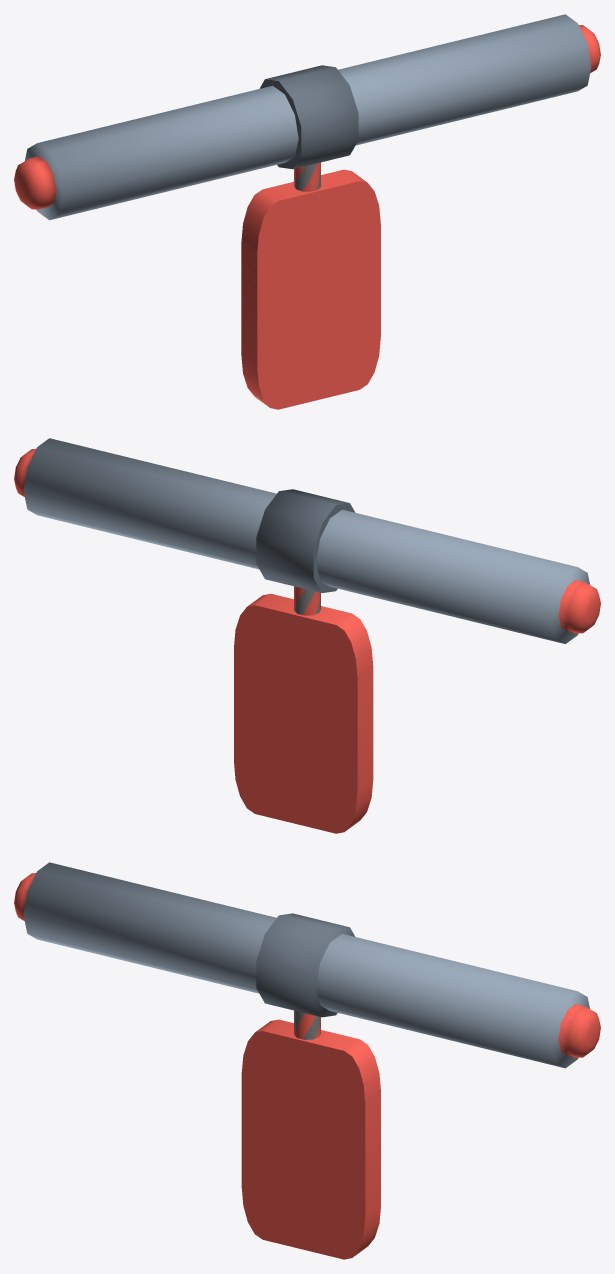
Rendered from MovableWall03.fbx.
The picture shows the model from 3 angles, top to bottom: view 1: azimuth 30°, elevation 25°; view 2: azimuth 150°, elevation 25°; view 3: azimuth 330°, elevation 25°; orthographic projection.
Parts seen in each view (by area): view 1: MoveableWallBase, Wall02; view 2: MoveableWallBase, Wall02; view 3: MoveableWallBase, Wall02.
Part boxes in pixels (x1,y1,x2,y2): MoveableWallBase: (14, 14, 600, 220); Wall02: (241, 65, 380, 409); MoveableWallBase: (14, 438, 600, 643); Wall02: (234, 489, 373, 833); MoveableWallBase: (14, 862, 600, 1068); Wall02: (241, 913, 380, 1259).
Size of the model in its own units: 800 by 429 by 110.
